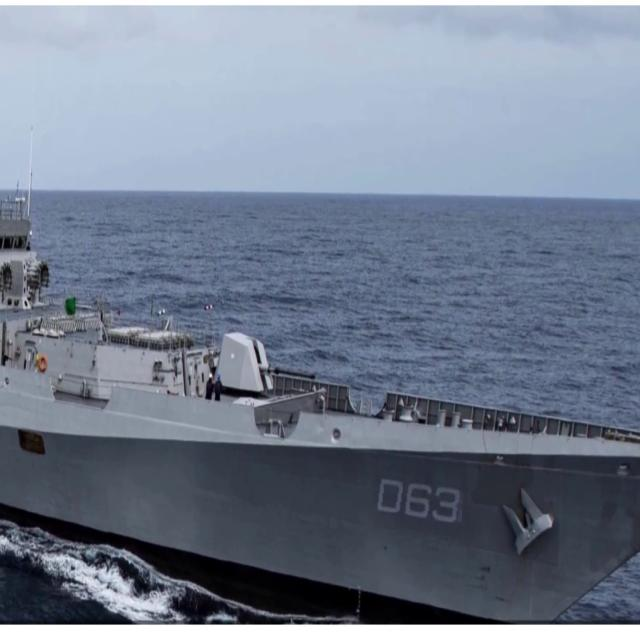OCR: (373, 470, 466, 530)
